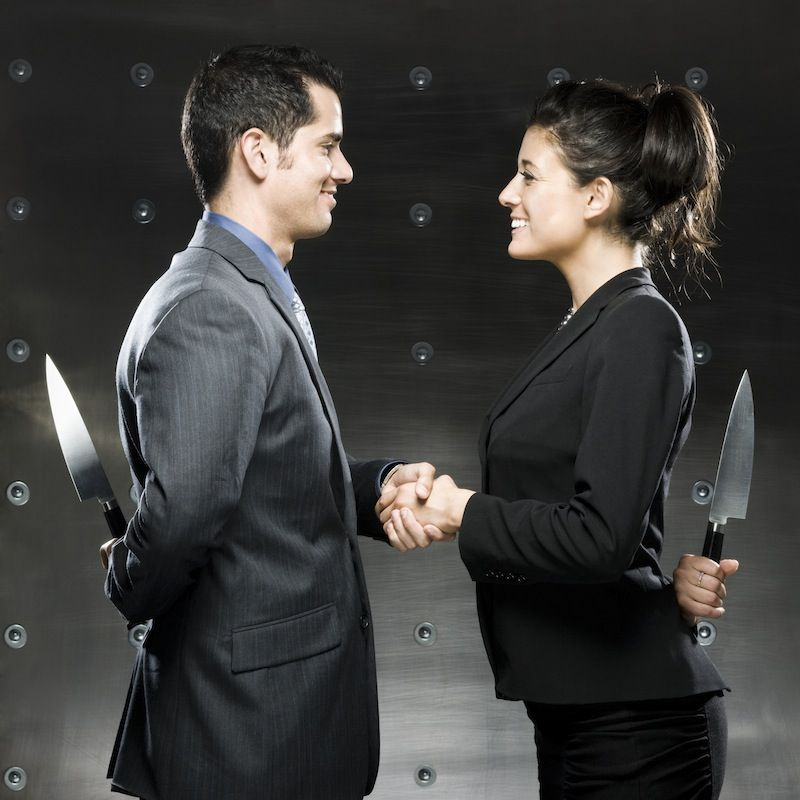knife: (668, 361, 761, 615), (37, 347, 136, 548)
